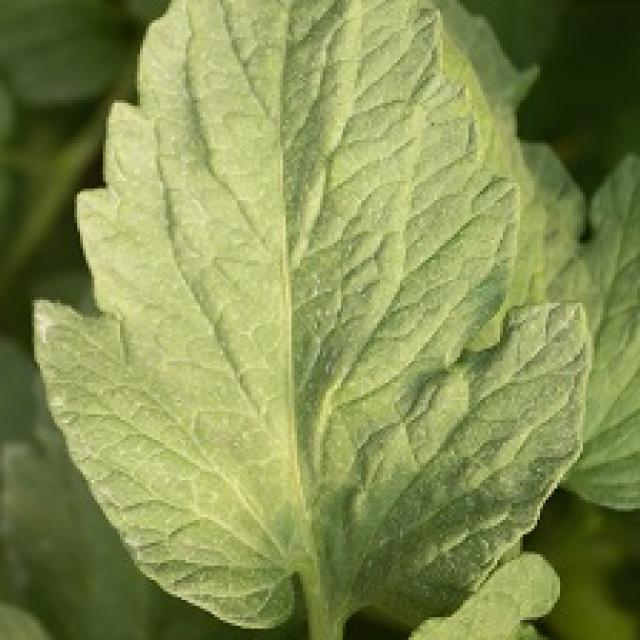Healthy: (36, 0, 580, 637)
